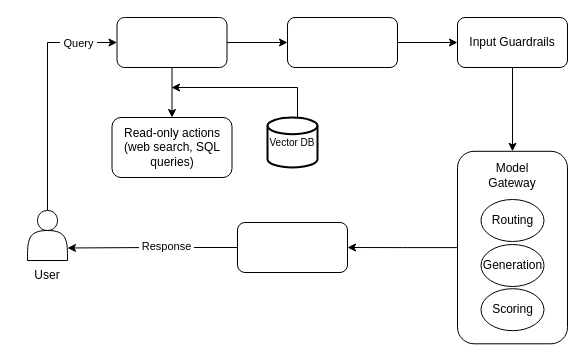
This 585x362 diagram has some shape labels left out. Here are the shapes that lost their labels. From the top down, the box of each, then its label:
(116, 16, 227, 68): RAG
(286, 16, 398, 68): Prompt Cache
(236, 222, 348, 272): Output Guardrails
